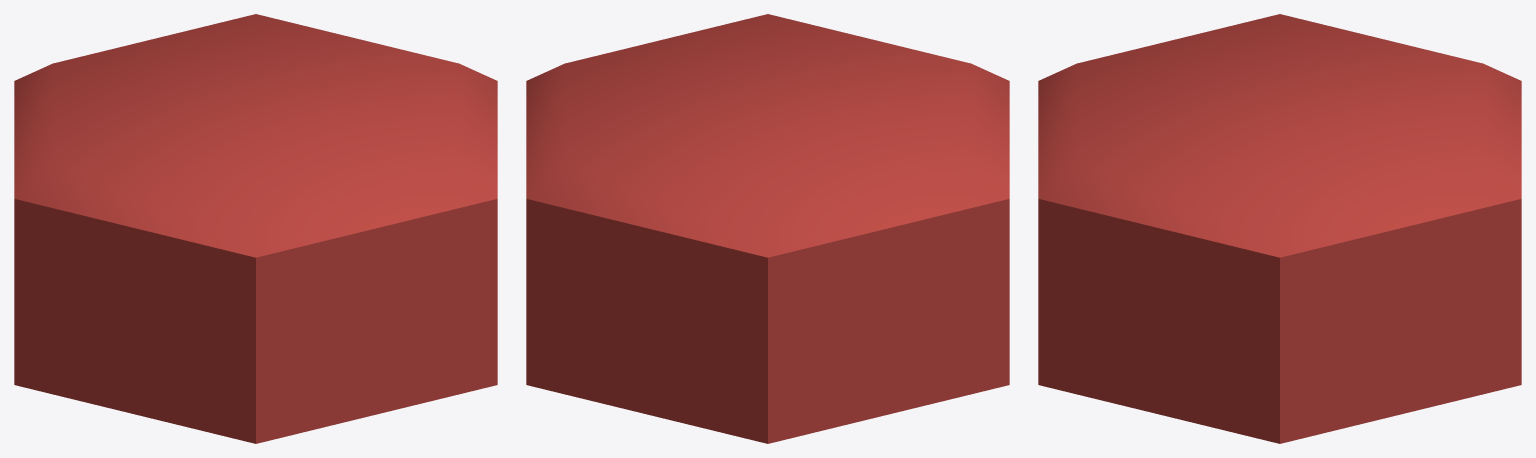
Rendered from lever_boss_lod2.glb.
3 views of the same model, side by side, from view 1: azimuth 30°, elevation 25°; view 2: azimuth 150°, elevation 25°; view 3: azimuth 270°, elevation 25° (orthographic).
Visible parts, largest first — view 1: lever_boss_lod2; view 2: lever_boss_lod2; view 3: lever_boss_lod2.
Part boxes in pixels (x1=…): lever_boss_lod2: x1=14, y1=14, x2=497, y2=443; lever_boss_lod2: x1=526, y1=14, x2=1009, y2=443; lever_boss_lod2: x1=1038, y1=14, x2=1521, y2=443.
Size of the model in its own units: 0.038 by 0.016 by 0.0329.
